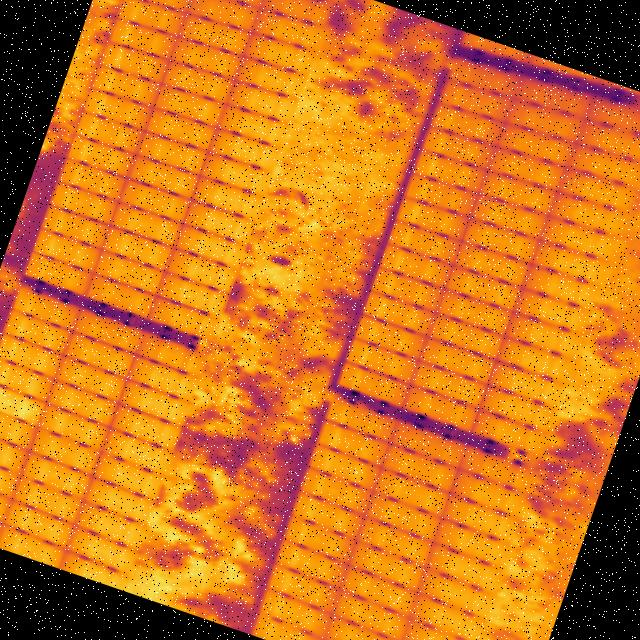Hotspot: (11, 396, 31, 418), (0, 383, 8, 409)
